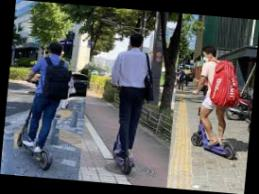nonhelmet: (100, 31, 160, 177), (13, 39, 76, 173), (187, 43, 250, 162)
